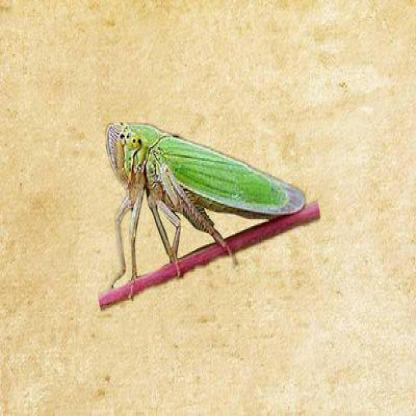Green-Leafhopper: (101, 116, 310, 298)
